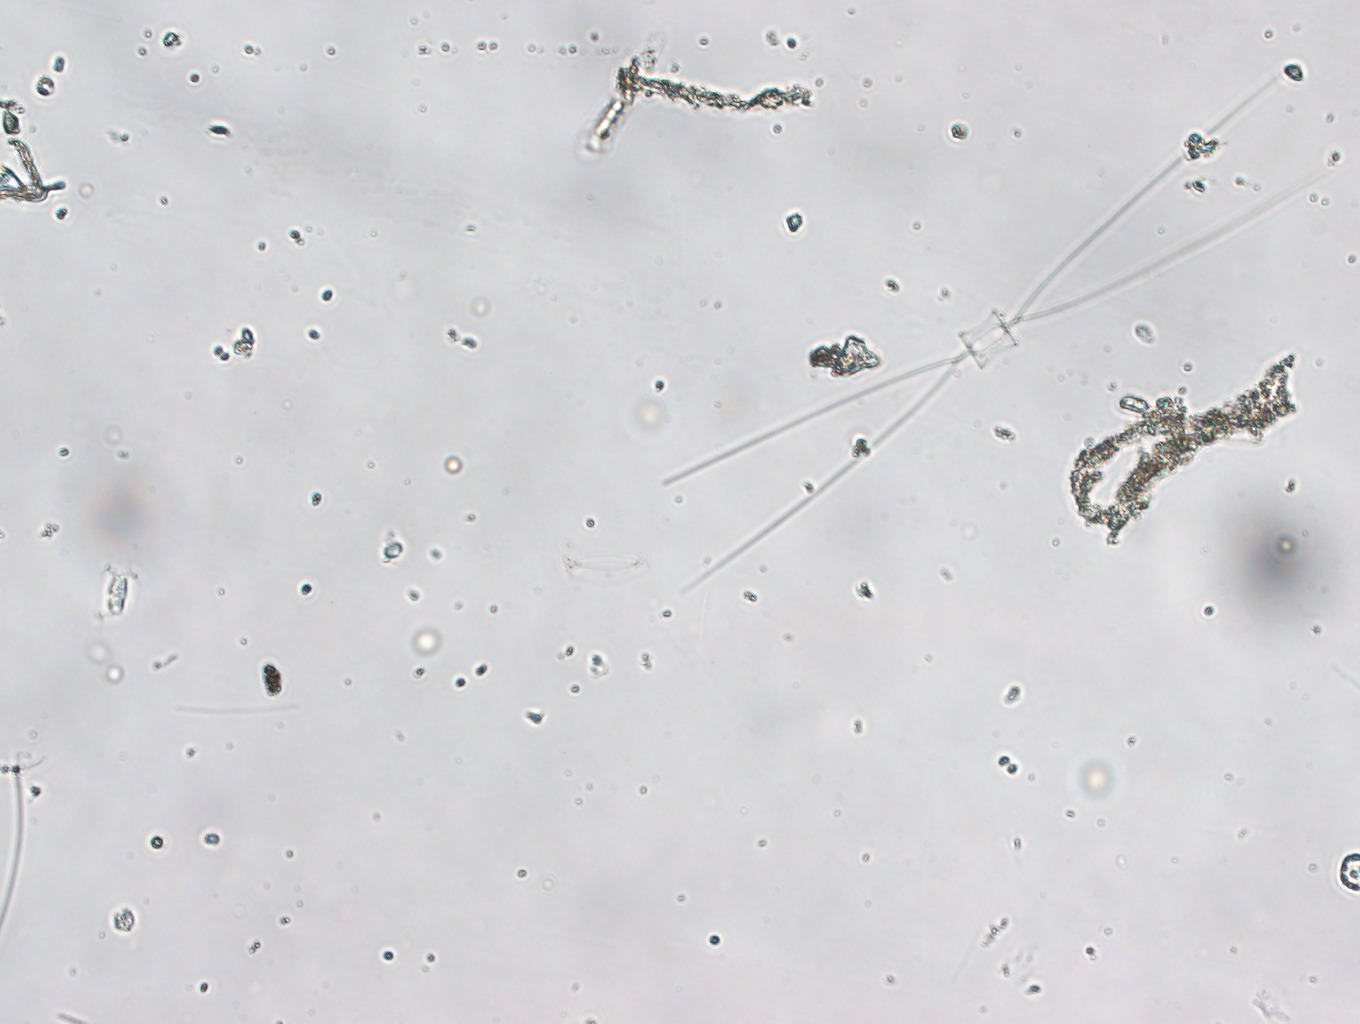chaetoceros: (653, 66, 1316, 595)
